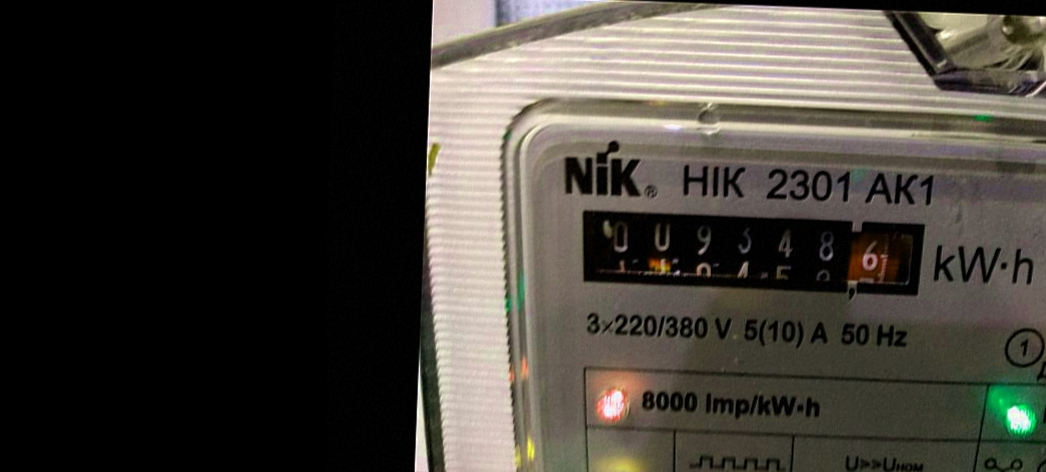0: (651, 218, 673, 255), (610, 218, 631, 254)
3: (733, 222, 756, 255)
4: (772, 224, 795, 262)
6: (859, 237, 882, 272)
8: (815, 227, 837, 262)
9: (694, 221, 713, 255)
screen: (556, 194, 945, 311)
